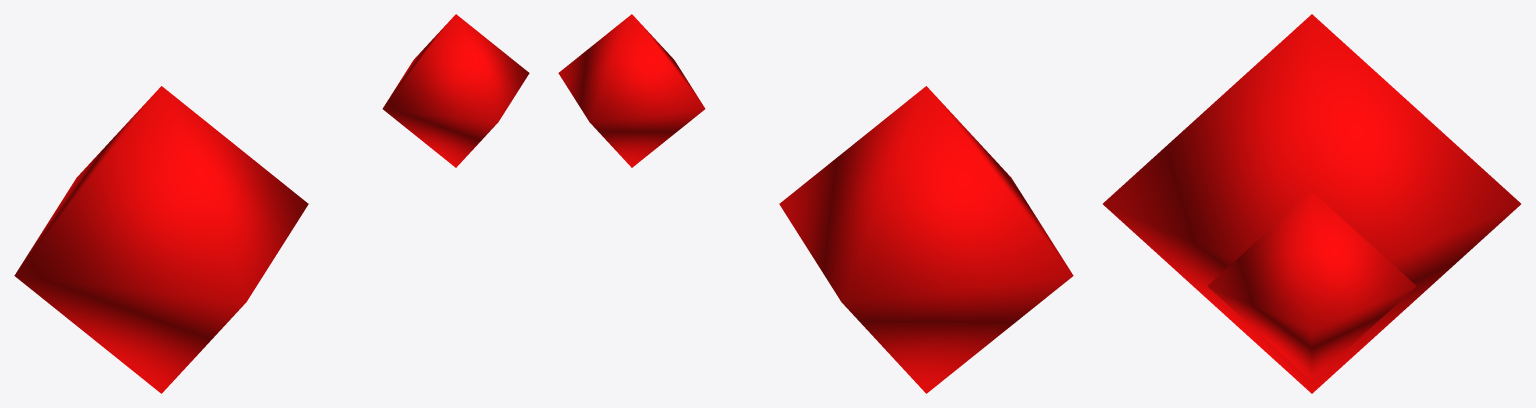
File: morph.gltf
The picture shows the model from 3 angles, left to right: view 1: azimuth 30°, elevation 25°; view 2: azimuth 150°, elevation 25°; view 3: azimuth 270°, elevation 25°; orthographic projection. The views are drawn at different scales.
Size of the model in its own units: 7 by 4 by 4.
